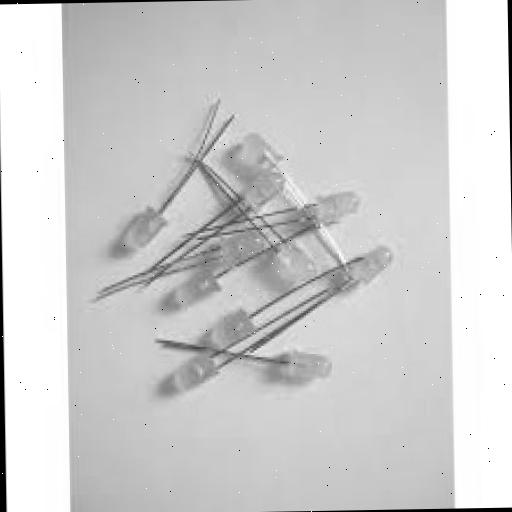LED: (127, 316, 231, 432), (328, 230, 409, 350), (215, 134, 317, 223), (212, 174, 308, 249), (123, 170, 182, 280), (310, 181, 390, 260), (203, 302, 283, 380), (253, 232, 332, 306), (284, 358, 362, 432), (166, 242, 238, 303)
